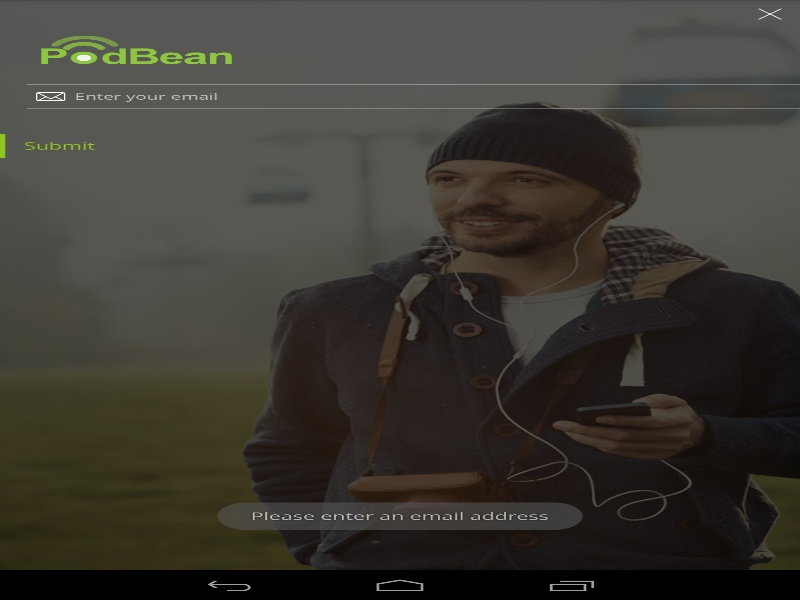Button: (24, 134, 800, 157), (740, 0, 800, 28)
Input: (26, 84, 800, 108)
